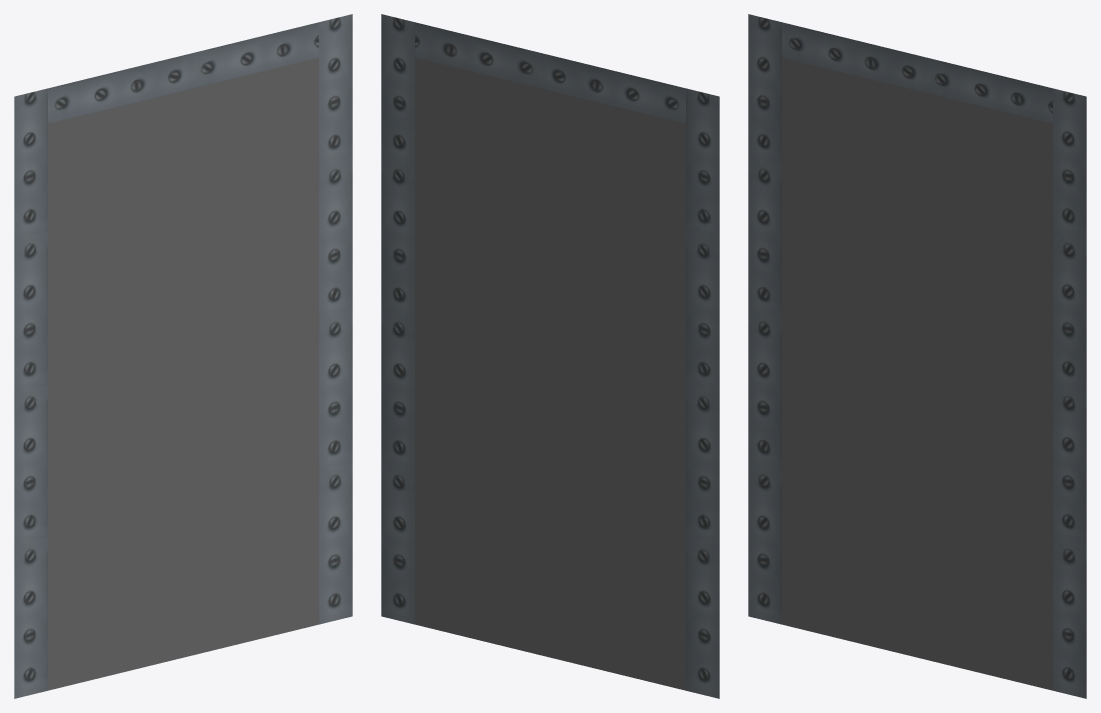
File: suit_door.glb
The picture shows the model from 3 angles, left to right: view 1: azimuth 30°, elevation 25°; view 2: azimuth 150°, elevation 25°; view 3: azimuth 330°, elevation 25°; orthographic projection.
Visible parts, largest first — view 1: g1, o2, o3, o4; view 2: g1, o2, o3, o4; view 3: g1, o2, o3, o4.
Boxes of the visible parts, x1,y1,x2,y2 form: g1: (48, 57, 318, 690); o2: (14, 88, 47, 698); o3: (319, 14, 352, 624); o4: (48, 22, 318, 123); g1: (415, 57, 685, 690); o2: (686, 88, 719, 698); o3: (381, 14, 414, 624); o4: (415, 22, 685, 123); g1: (782, 57, 1052, 690); o2: (748, 14, 781, 624); o3: (1053, 88, 1086, 698); o4: (782, 22, 1052, 123).
Size of the model in its own units: 5 by 8.5 by 0.
2 materials, 1 textured.
